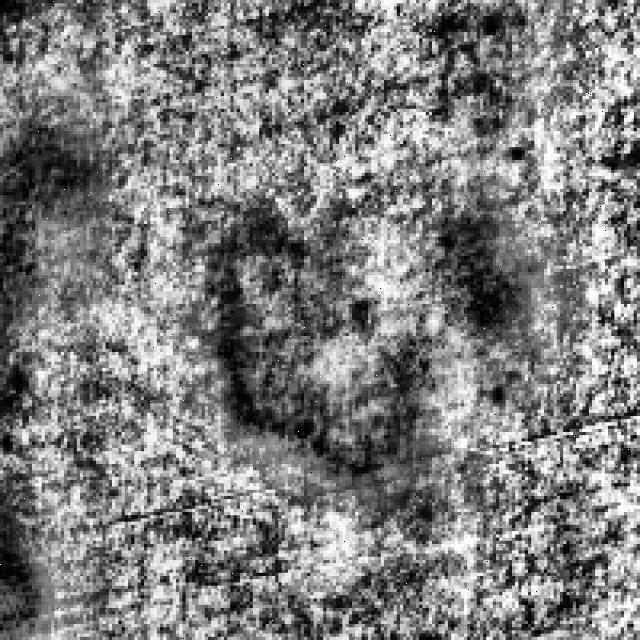Scratches: (205, 202, 413, 492), (406, 196, 532, 374), (3, 90, 106, 282)
